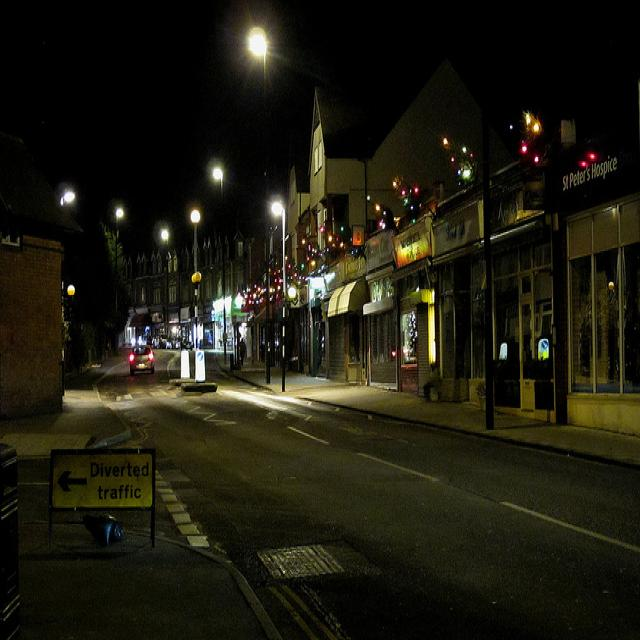Vehicle: (129, 345, 157, 377), (160, 332, 174, 348)
